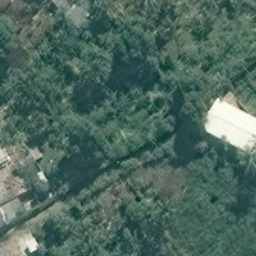buildings: (200, 94, 256, 164), (5, 227, 59, 256), (1, 180, 28, 227), (25, 167, 60, 196), (1, 146, 18, 170)
